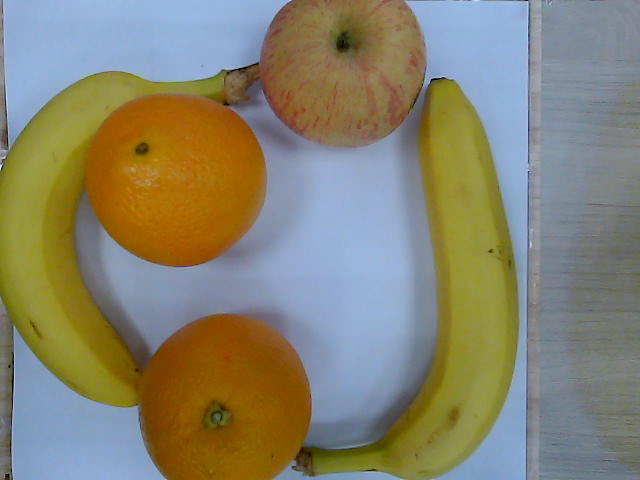fresh_apple: (261, 1, 427, 146)
fresh_banana: (384, 77, 521, 480), (1, 60, 154, 409)
fresh_orange: (87, 92, 265, 267), (140, 315, 312, 480)
